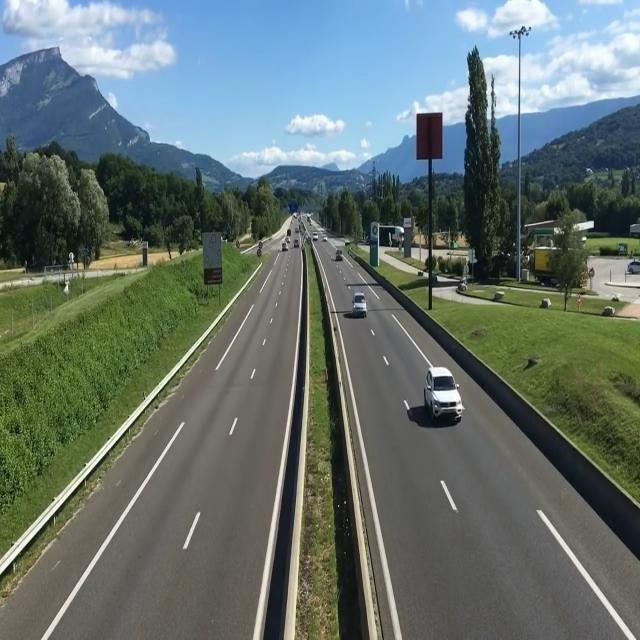Car: (423, 367, 463, 419)
Van: (351, 293, 368, 316), (335, 249, 343, 262), (293, 238, 299, 249), (282, 242, 288, 251)
